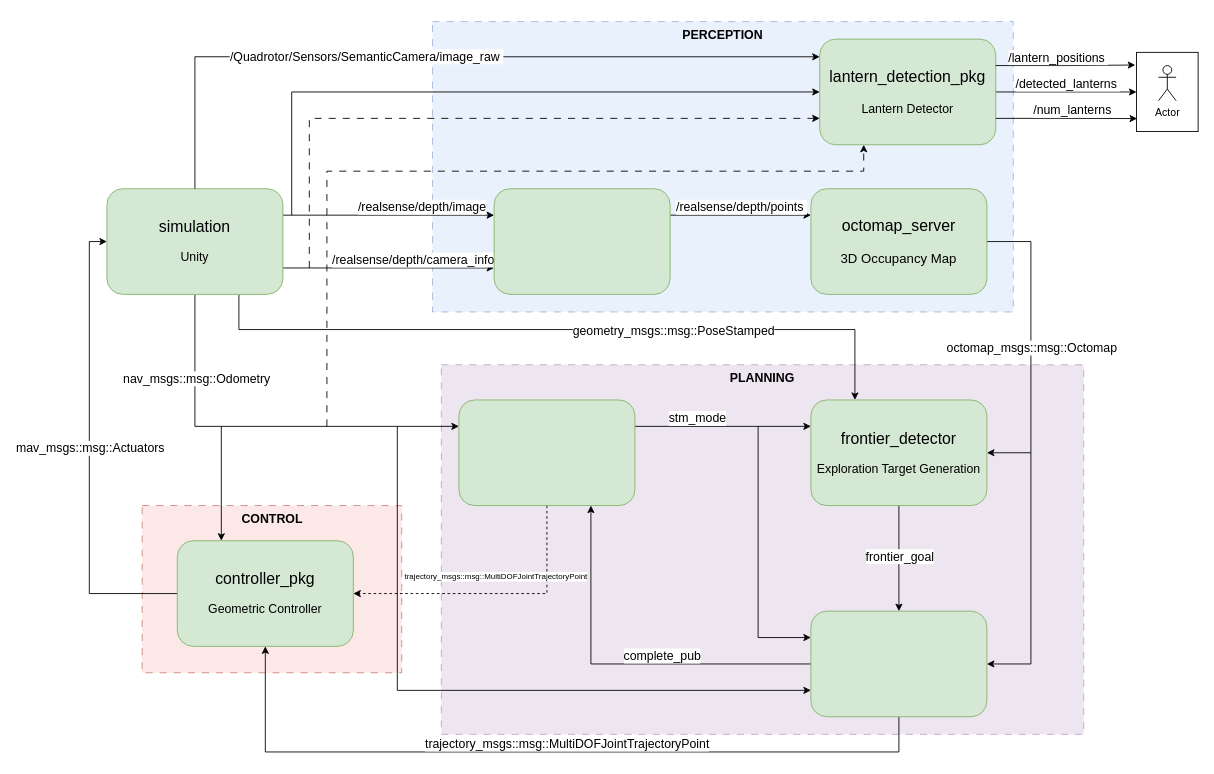
Image size: 1214x774. Some labels were removed from this diagram. Each missing label, with the centre of its shape:
dept_image_proc 3D Point Cloud Generator: (581,241)
mission_control Main State Machine: (546,452)
sampling_based_traj_gen Local Planner: (898,663)
